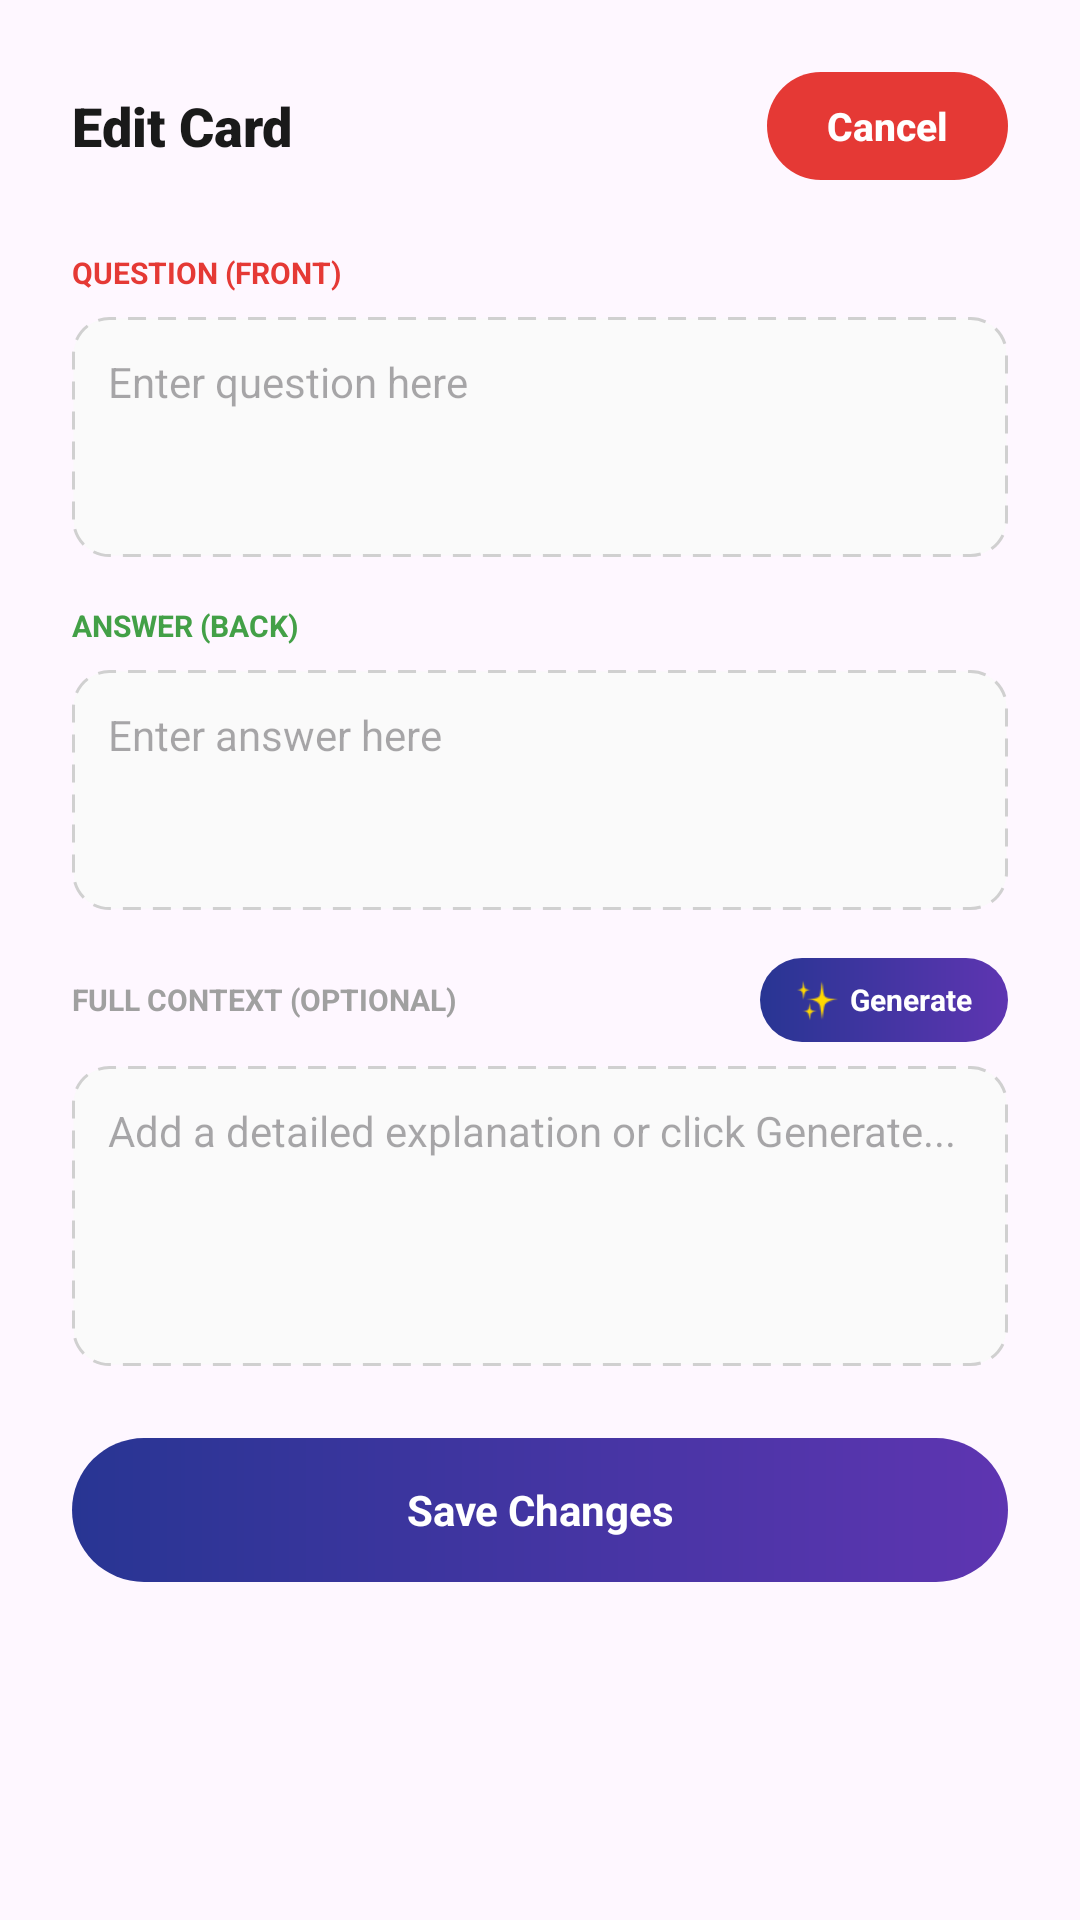

Locate icon controls on the screen. Image size 1080 × 1920, boxes as (x1, y1, x2, y2).
sparkles: (798, 982, 837, 1019)
